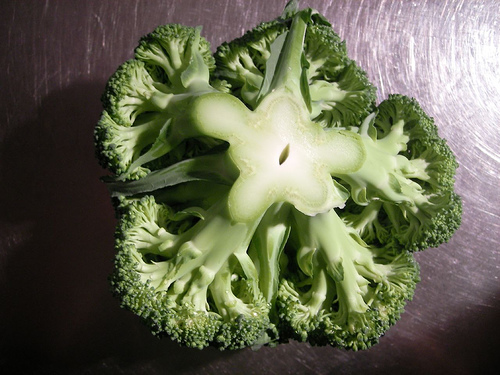broccoli: (90, 12, 463, 355)
